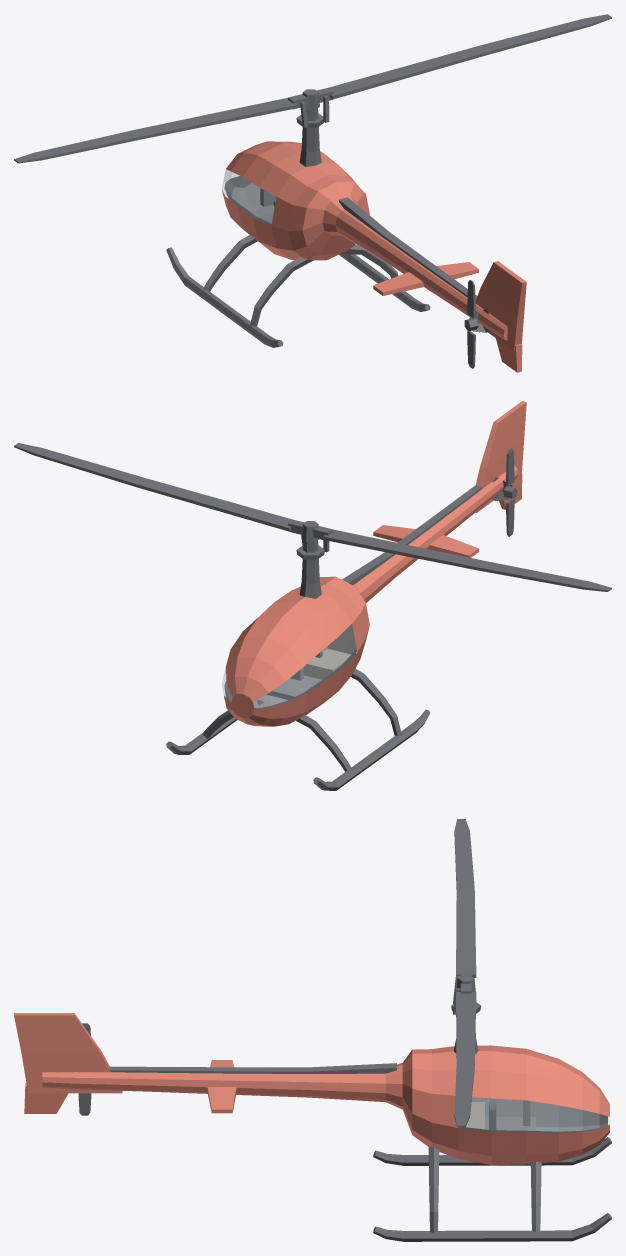
File: helicopter_lowpoly.glb
3 renders of one model, top to bottom at view 1: azimuth 30°, elevation 25°; view 2: azimuth 150°, elevation 25°; view 3: azimuth 270°, elevation 25°, orthographic. The views are drawn at different scales.
Parts seen in each view (by area): view 1: Body, MainRotor, Canopy, TailRotor; view 2: Body, MainRotor, Canopy, TailRotor; view 3: Body, MainRotor, Canopy.
Part boxes in pixels (left/top/right/bottom): Body: left=166, top=108, right=526, bottom=372; MainRotor: left=14, top=14, right=611, bottom=163; Canopy: left=222, top=169, right=275, bottom=224; TailRotor: left=464, top=280, right=478, bottom=368; Body: left=166, top=401, right=526, bottom=790; MainRotor: left=14, top=443, right=611, bottom=591; Canopy: left=222, top=624, right=356, bottom=708; TailRotor: left=503, top=448, right=517, bottom=536; Body: left=14, top=1013, right=611, bottom=1241; MainRotor: left=451, top=819, right=480, bottom=1127; Canopy: left=463, top=1097, right=609, bottom=1132.
Size of the model in its own units: 7.67 by 2.69 by 6.32.
